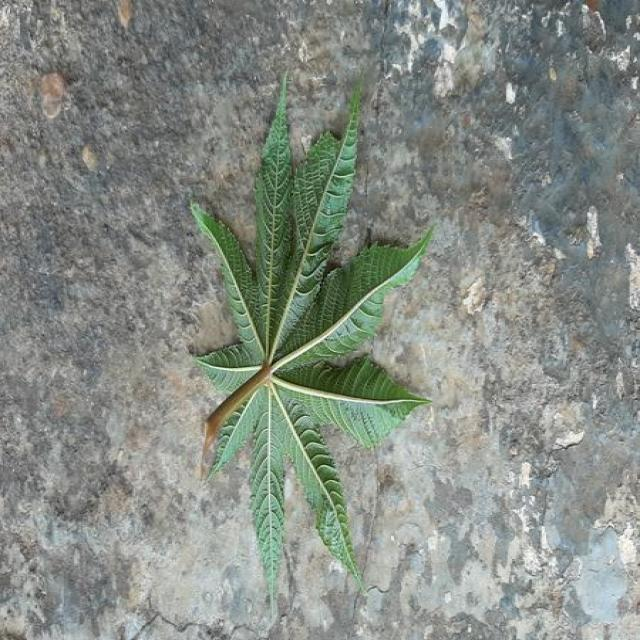seedling blight: (192, 79, 430, 596)
